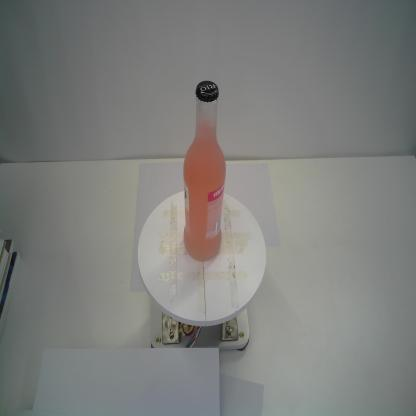Alcohol: (178, 79, 228, 262)
